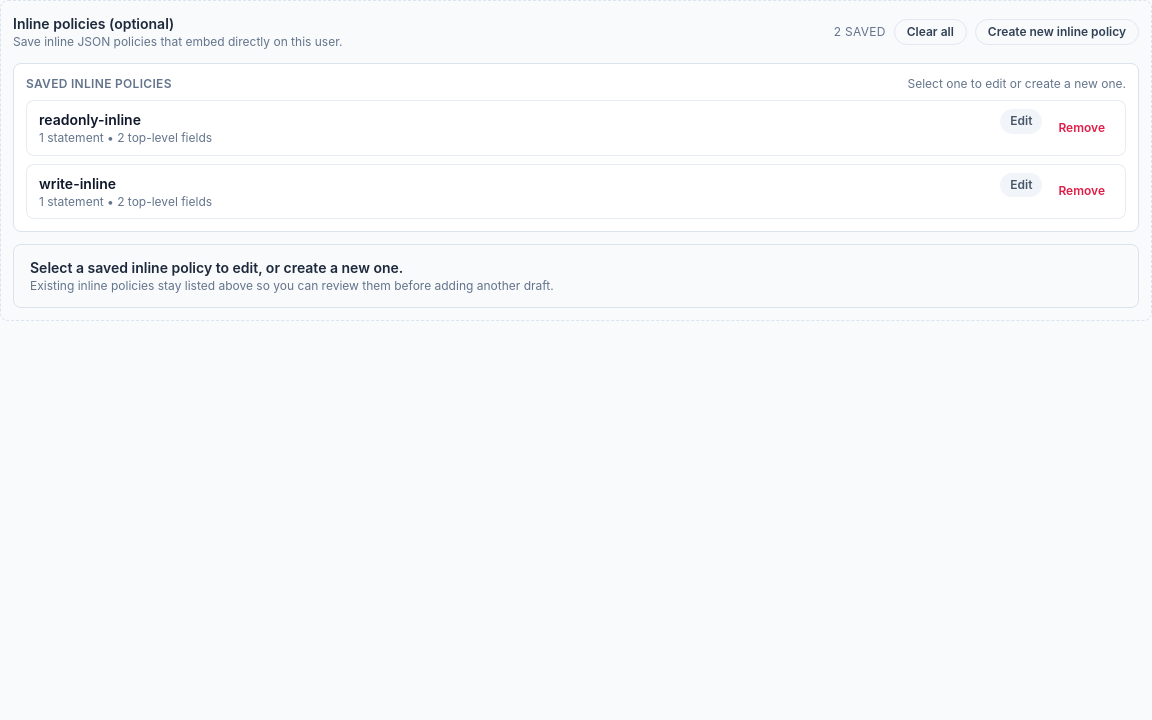
Scenario: InlinePolicyDraftEditor › warns when a draft name matches another saved draft
The image size is (1152, 720).
Step 1. Click the button "readonly-inline 1 statement • 2 top-level fields Edit" → {"x": 90, "y": 120}, box [39,109,1042,146]
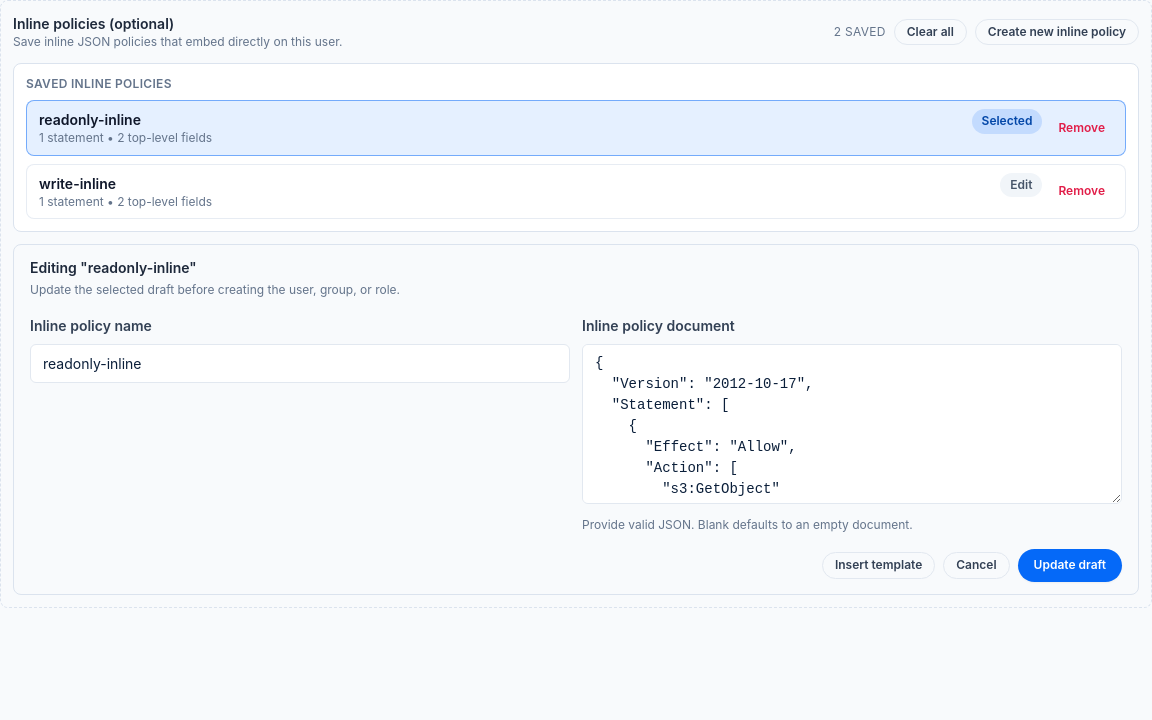
Step 2. Replace the text in the field labelled "Inline policy name" with "write-inline" → {"x": 300, "y": 363}, box [30,344,570,382]
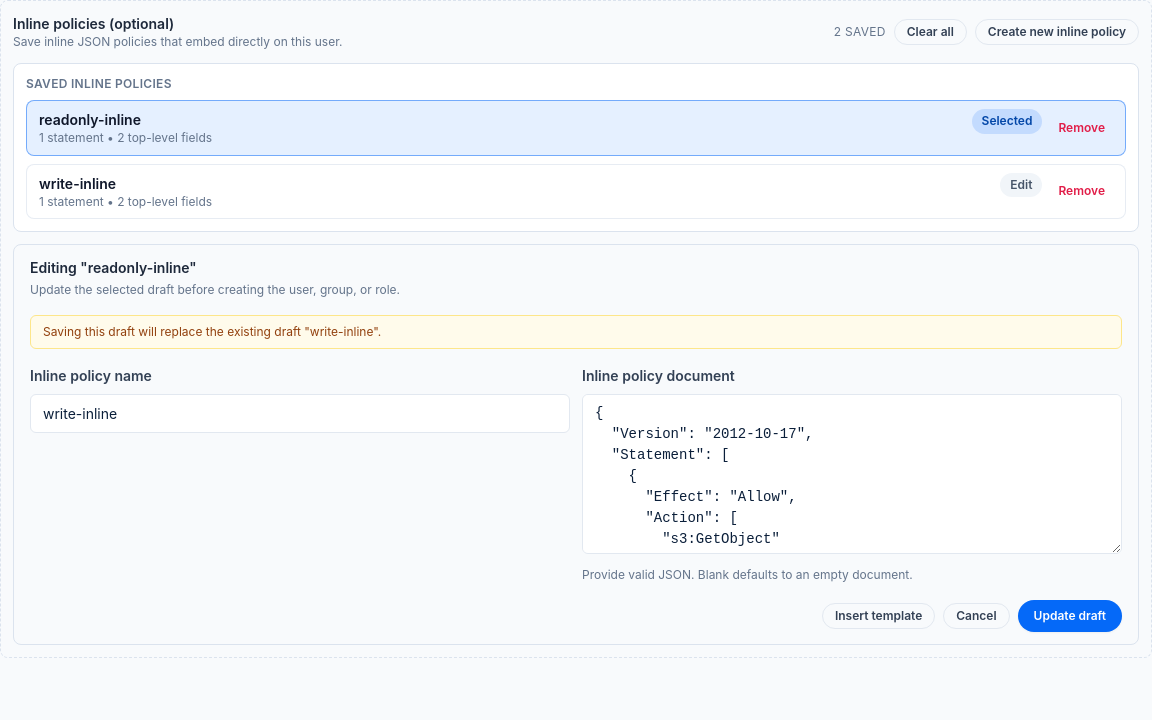
Check: the button "Update draft" is shown, box [1018,600,1122,632]
Check: the text "Saving this draft will replace the existing draft \"write-inline\"." is shown, box [30,314,1122,349]
